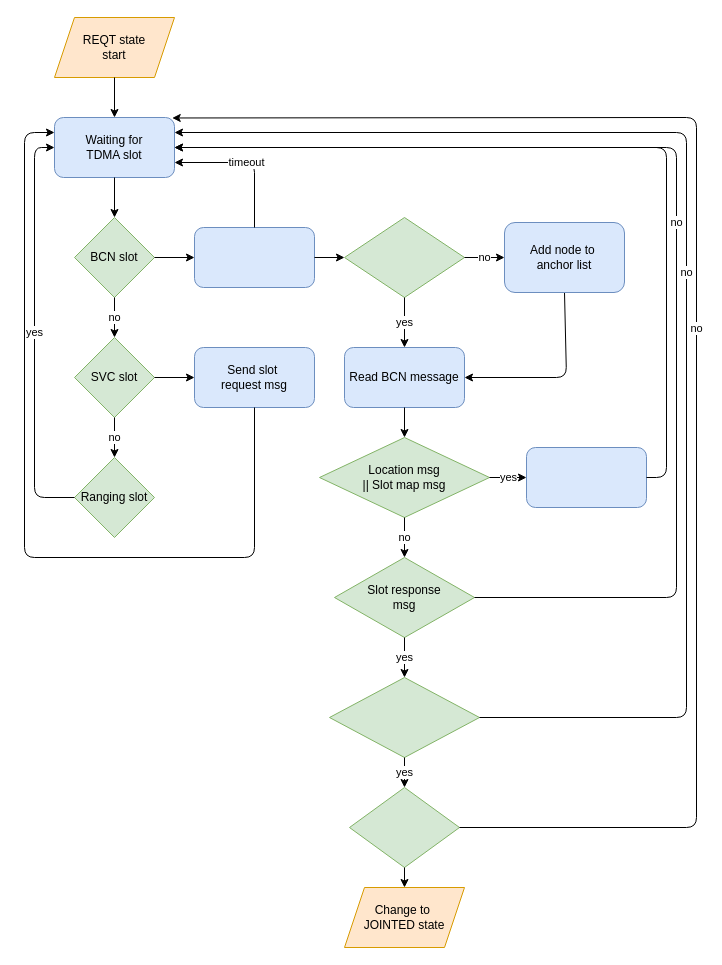
Image size: 722x965. Some labels were removed from this diagram. The shapes that lost their labels are listed below. From the top down, each one's centre as x and y in pixels, then its label:
(254,257): Waiting for BCN message
(404,257): Anchor in anchor list?
(586,477): Update node infomation
(404,717): Accept requested slot
(404,827): All nodes accepted
